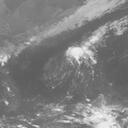cyclone: (66, 43, 96, 68)
